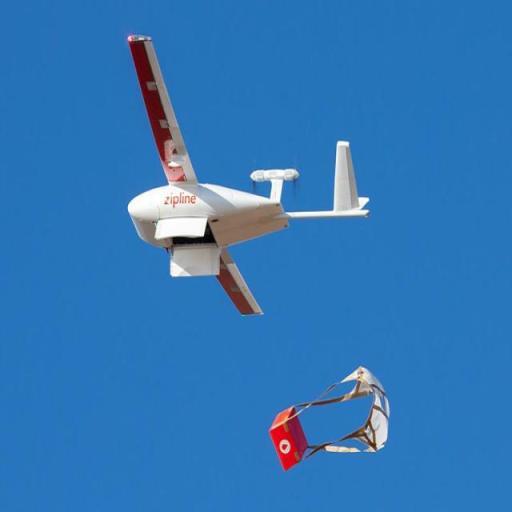uav: (89, 22, 401, 326)
